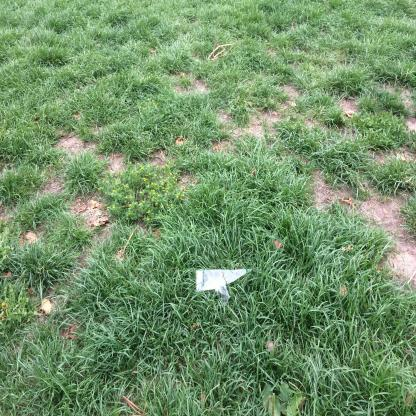trash: (193, 264, 255, 312)
